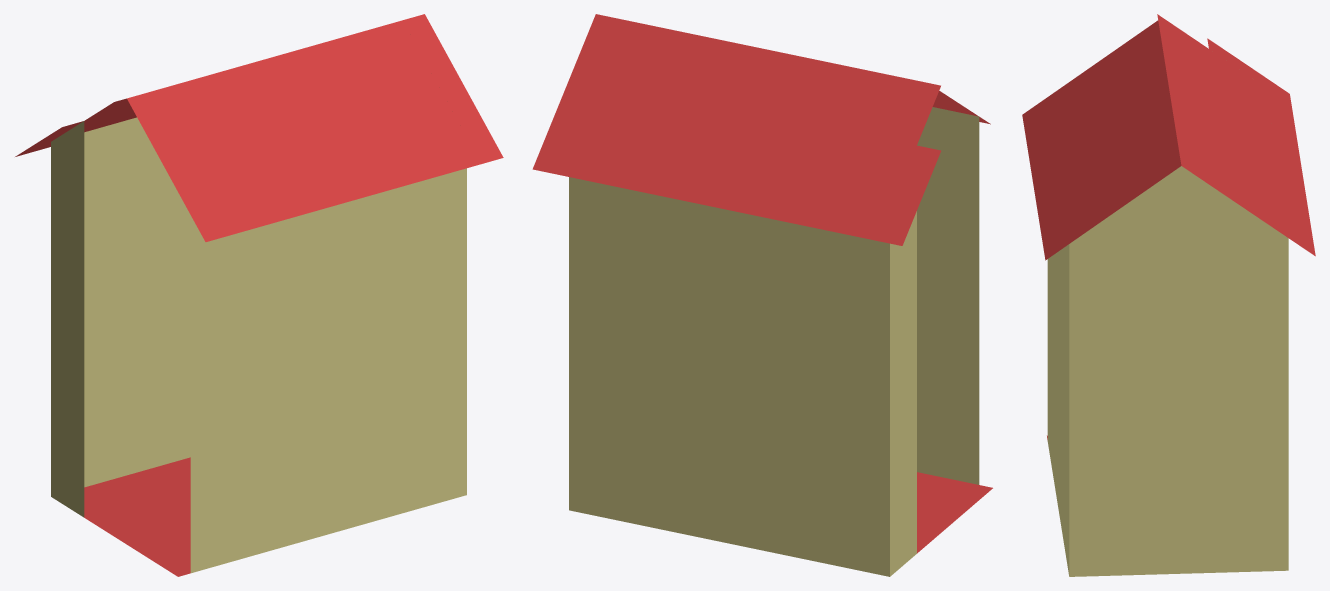
3 renders of one model, left to right at view 1: azimuth 30°, elevation 25°; view 2: azimuth 150°, elevation 25°; view 3: azimuth 270°, elevation 25°, orthographic. The views are drawn at different scales.
Bounding box in the file's own units: 7.88 × 5.74 × 9.03.
